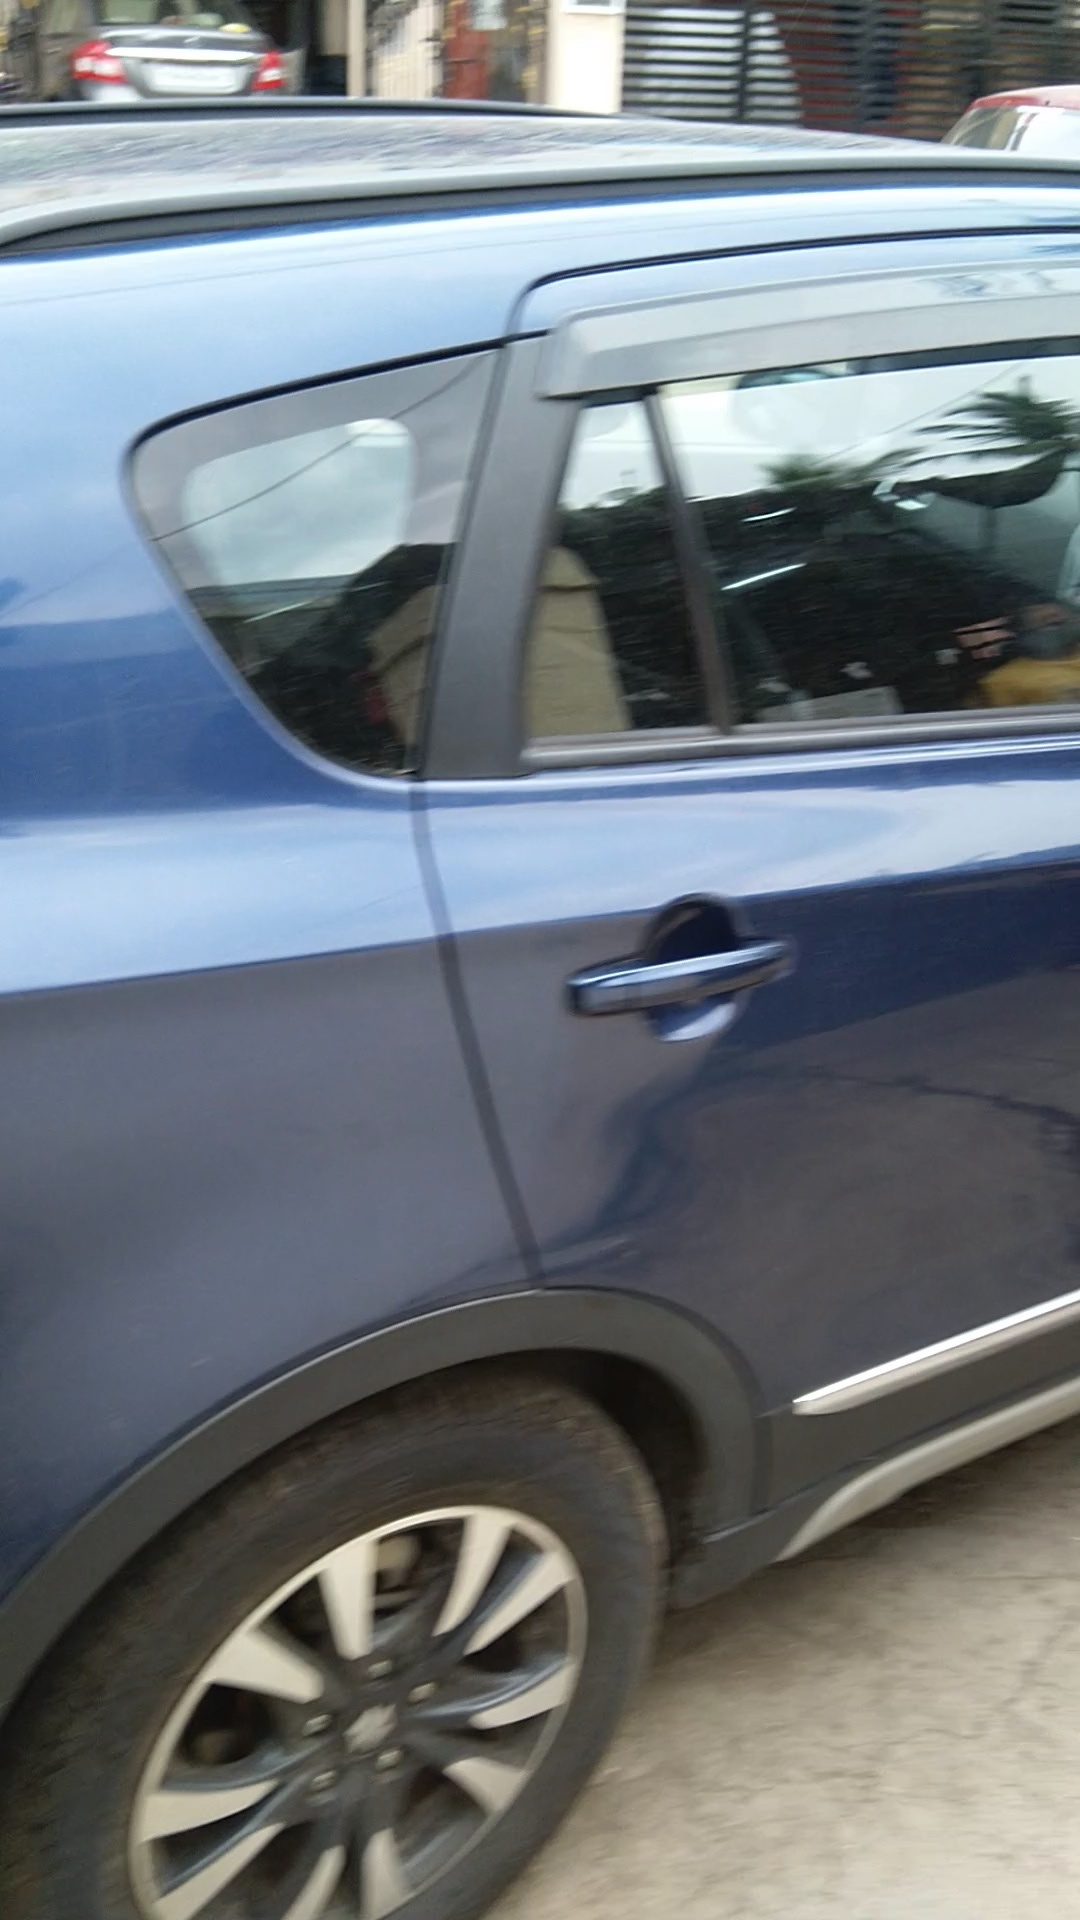alloy_wheel: (55, 1382, 661, 1920)
